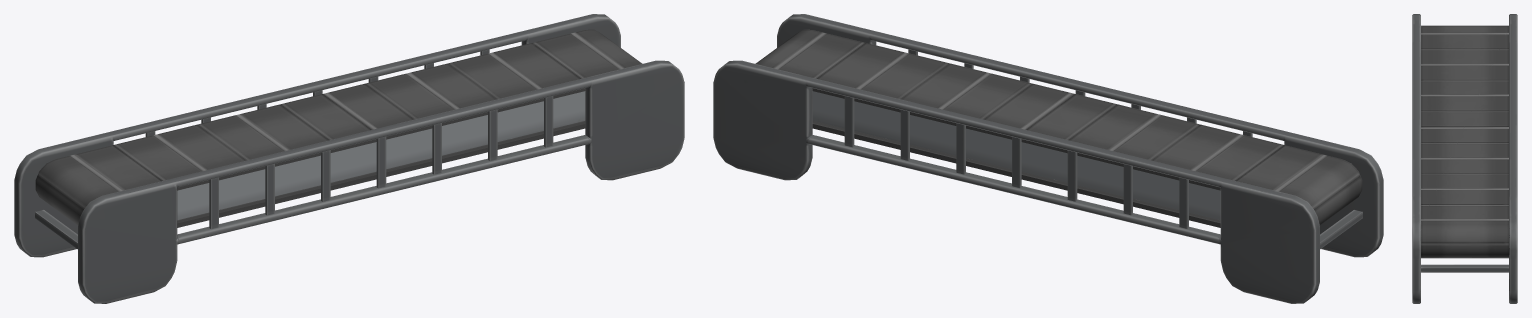
File: beltkonbea_004.fbx
The picture shows the model from 3 angles, left to right: view 1: azimuth 30°, elevation 25°; view 2: azimuth 150°, elevation 25°; view 3: azimuth 270°, elevation 25°; orthographic projection. The views are drawn at different scales.
Visible parts, largest first — view 1: berutokonnbea_Mesh_001, berutokonnbea_Mesh_022, berutokonnbea_Mesh_025, berutokonnbea_Mesh_002, berutokonnbea_Mesh_018, berutokonnbea_Mesh_006, berutokonnbea_Mesh_005, berutokonnbea_Mesh_008, berutokonnbea_Mesh_007, berutokonnbea_Mesh_017, berutokonnbea_Mesh_004, berutokonnbea_Mesh_009; view 2: berutokonnbea_Mesh_001, berutokonnbea_Mesh_025, berutokonnbea_Mesh_022, berutokonnbea_Mesh_003, berutokonnbea_Mesh_018, berutokonnbea_Mesh_014, berutokonnbea_Mesh_010, berutokonnbea_Mesh_011, berutokonnbea_Mesh_012, berutokonnbea_Mesh_015, berutokonnbea_Mesh_016, berutokonnbea_Mesh_013; view 3: berutokonnbea_Mesh_001, berutokonnbea_Mesh_022, berutokonnbea_Mesh_025, berutokonnbea_Mesh_019.
Boxes of the visible parts, left/top/right/bottom form: berutokonnbea_Mesh_001: left=35, top=29, right=642, bottom=227; berutokonnbea_Mesh_022: left=78, top=60, right=684, bottom=303; berutokonnbea_Mesh_025: left=14, top=14, right=620, bottom=257; berutokonnbea_Mesh_002: left=177, top=91, right=585, bottom=219; berutokonnbea_Mesh_018: left=35, top=210, right=77, bottom=249; berutokonnbea_Mesh_006: left=376, top=137, right=386, bottom=188; berutokonnbea_Mesh_005: left=321, top=150, right=330, bottom=201; berutokonnbea_Mesh_008: left=488, top=109, right=497, bottom=160; berutokonnbea_Mesh_007: left=432, top=123, right=441, bottom=174; berutokonnbea_Mesh_017: left=265, top=164, right=274, bottom=215; berutokonnbea_Mesh_004: left=209, top=177, right=218, bottom=228; berutokonnbea_Mesh_009: left=544, top=96, right=553, bottom=147; berutokonnbea_Mesh_001: left=755, top=29, right=1362, bottom=227; berutokonnbea_Mesh_025: left=713, top=60, right=1319, bottom=303; berutokonnbea_Mesh_022: left=777, top=14, right=1383, bottom=257; berutokonnbea_Mesh_003: left=812, top=91, right=1220, bottom=220; berutokonnbea_Mesh_018: left=1320, top=210, right=1362, bottom=249; berutokonnbea_Mesh_014: left=1067, top=150, right=1077, bottom=201; berutokonnbea_Mesh_010: left=844, top=96, right=854, bottom=147; berutokonnbea_Mesh_011: left=900, top=109, right=909, bottom=160; berutokonnbea_Mesh_012: left=956, top=123, right=965, bottom=174; berutokonnbea_Mesh_015: left=1123, top=164, right=1132, bottom=215; berutokonnbea_Mesh_016: left=1179, top=177, right=1188, bottom=228; berutokonnbea_Mesh_013: left=1012, top=137, right=1021, bottom=187; berutokonnbea_Mesh_001: left=1421, top=25, right=1508, bottom=258; berutokonnbea_Mesh_022: left=1412, top=14, right=1420, bottom=303; berutokonnbea_Mesh_025: left=1509, top=14, right=1517, bottom=303; berutokonnbea_Mesh_019: left=1421, top=264, right=1508, bottom=272.
Bounding box in the file's own units: 600 × 100 × 120.
Materials: 2 (2 with a texture image).
